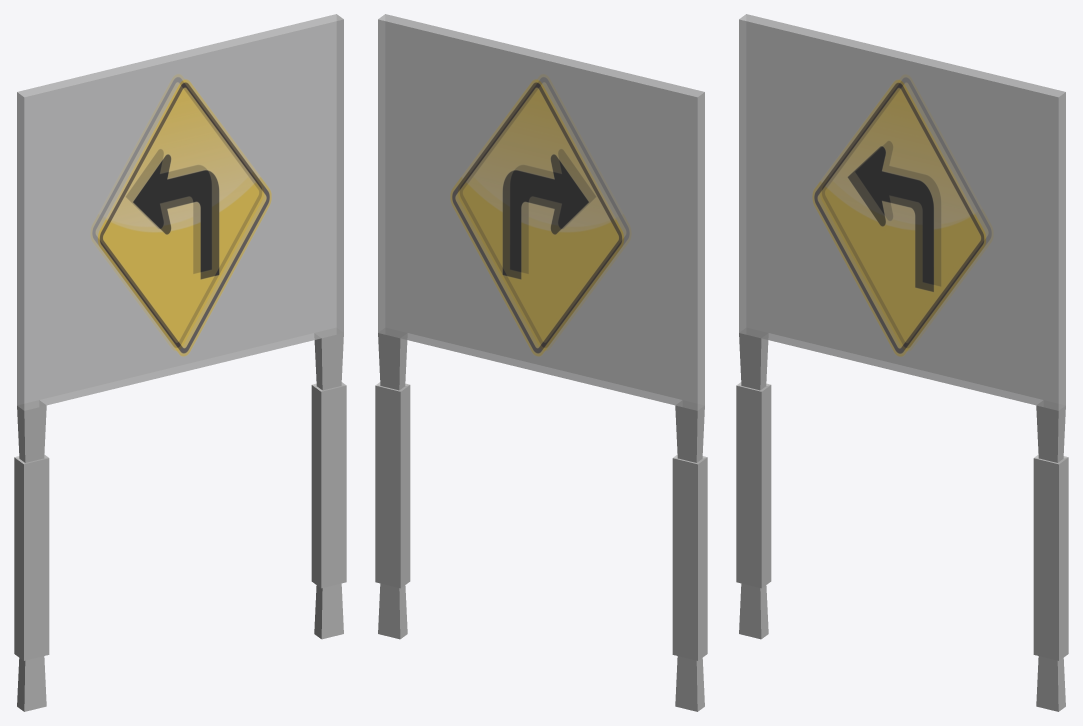
The model's file is Obstucle.fbx.
3 renders of one model, left to right at view 1: azimuth 30°, elevation 25°; view 2: azimuth 150°, elevation 25°; view 3: azimuth 330°, elevation 25°, orthographic.
Parts seen in each view (by area): view 1: Obstucle.001, Obstucle; view 2: Obstucle.001, Obstucle; view 3: Obstucle.001, Obstucle.
Boxes of the visible parts, left/top/right/bottom form: Obstucle.001: left=17, top=14, right=343, bottom=410; Obstucle: left=14, top=328, right=346, bottom=711; Obstucle.001: left=378, top=14, right=704, bottom=410; Obstucle: left=375, top=328, right=707, bottom=711; Obstucle.001: left=739, top=14, right=1065, bottom=410; Obstucle: left=736, top=328, right=1068, bottom=711.
Bounding box in the file's own units: 1.01 × 1.84 × 0.0526.
